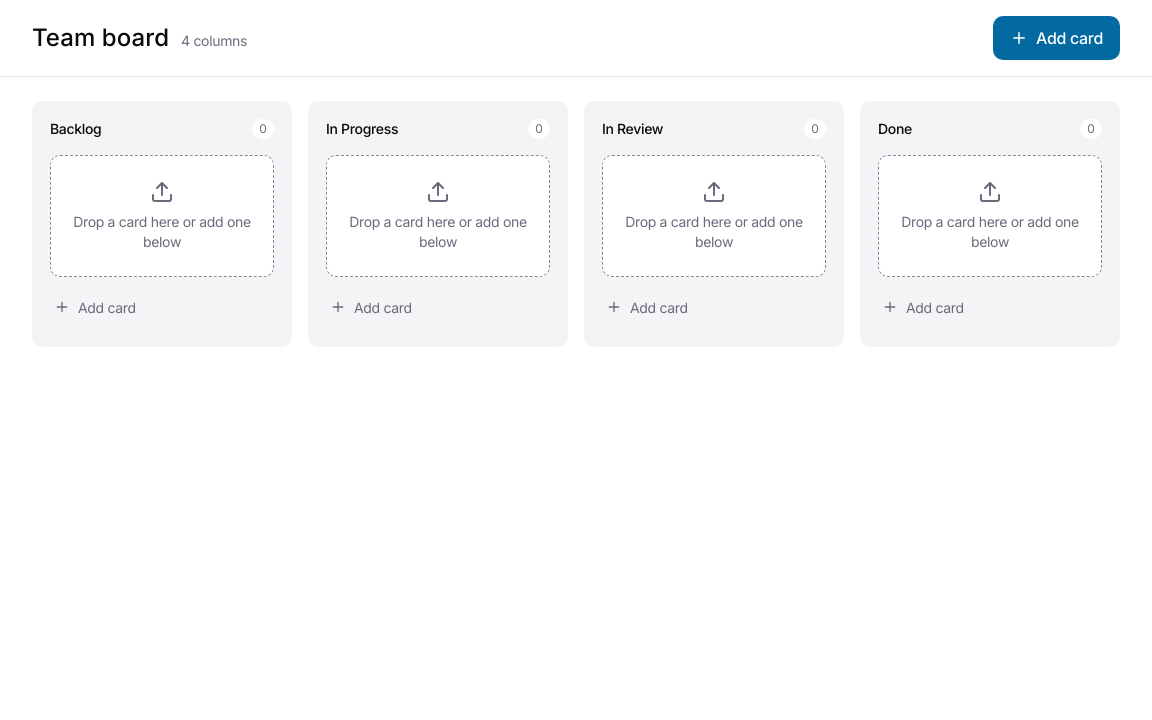
keyboard and focus management › hands focus back to the opening button when the dialog closes
Click the button "Add card" in the row of "columns": (1056, 38) 993,16 -> 1120,60
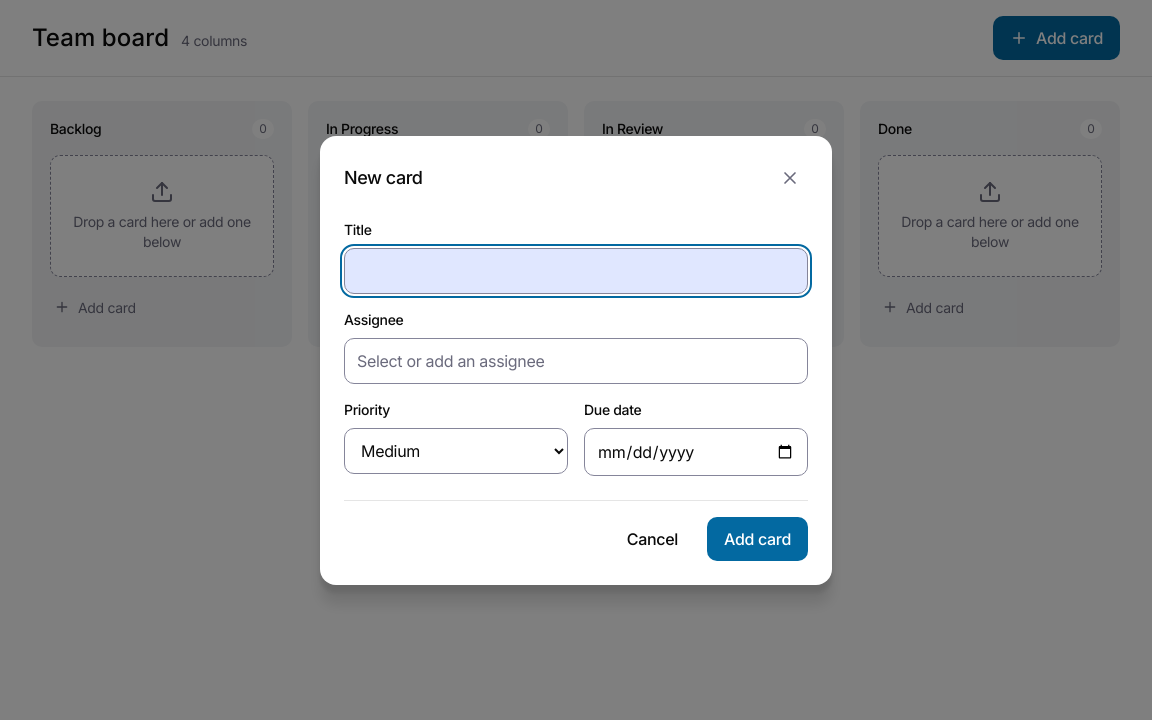
Now the dialog is shown, box 320,136 -> 832,584
Press Escape
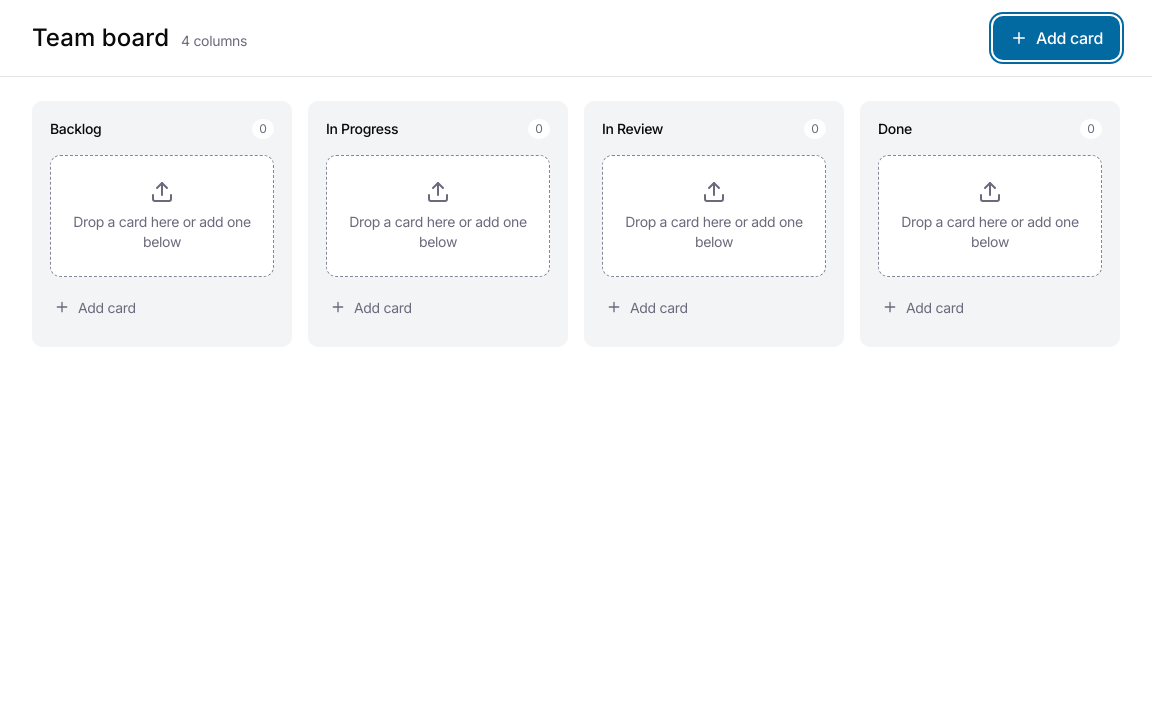
Now the dialog is gone
